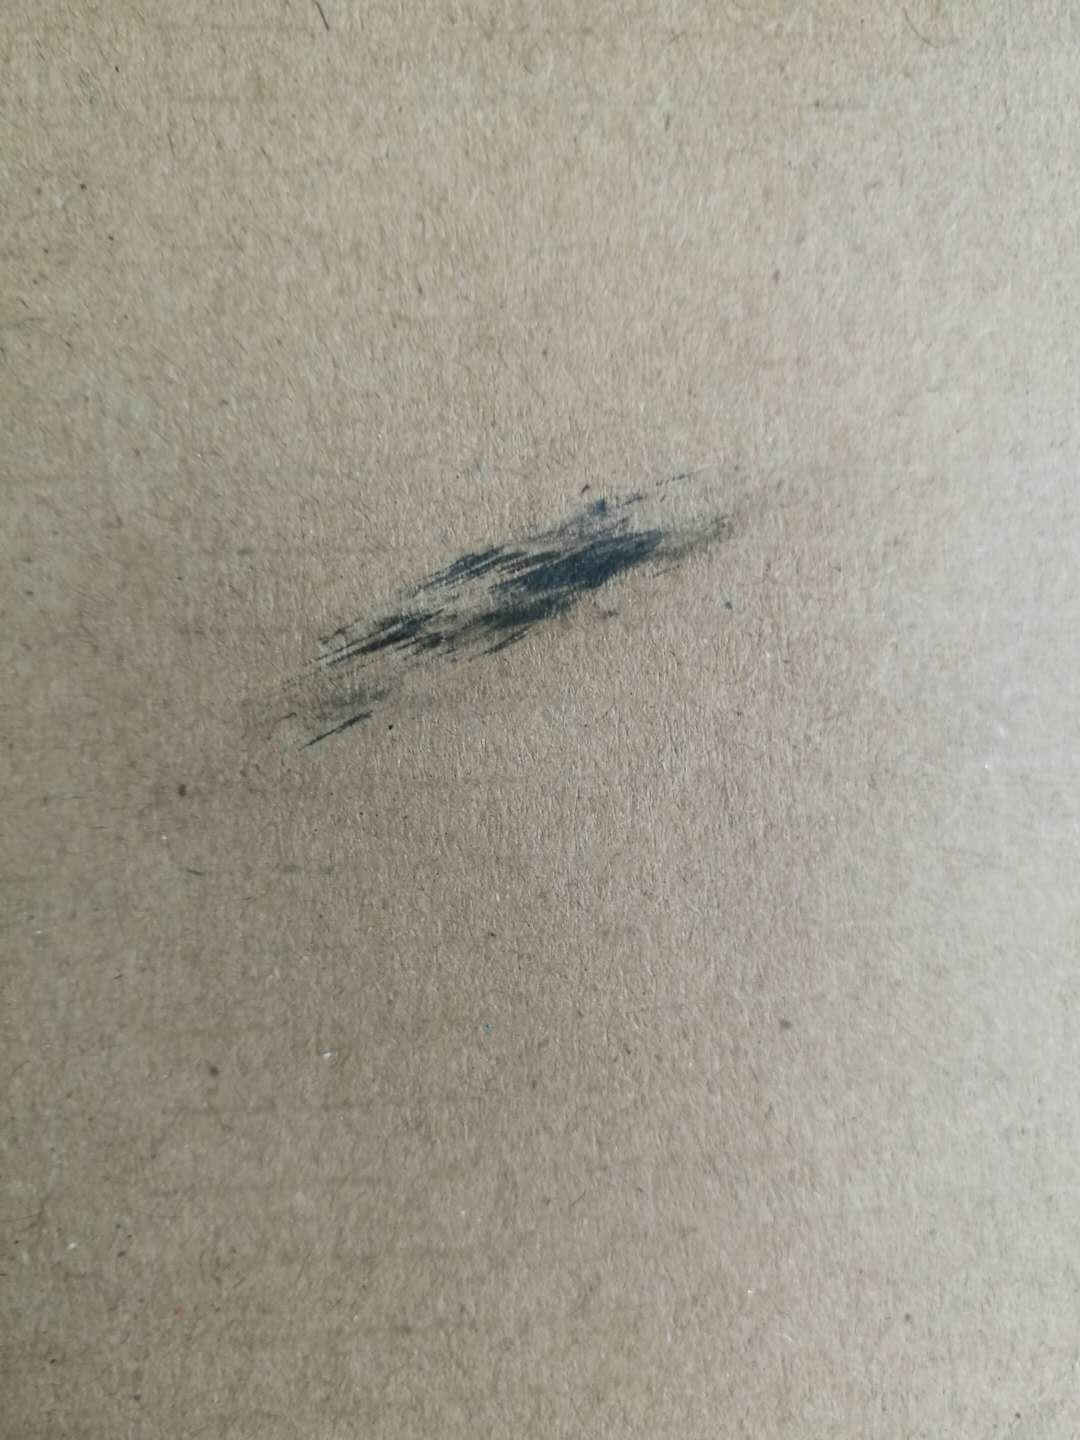defect: (151, 454, 805, 804)
